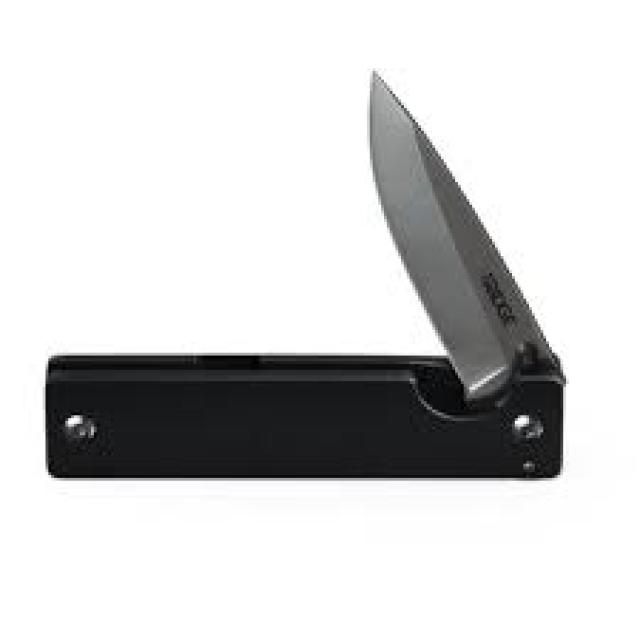knives: (37, 66, 572, 487)
